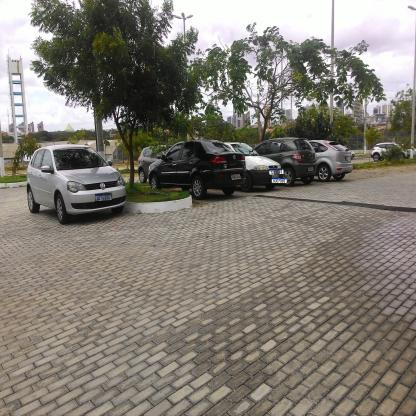PlacaM: (95, 193, 112, 202), (269, 168, 284, 175), (271, 178, 287, 183)
